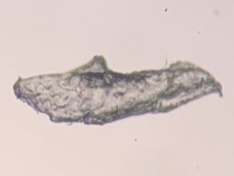microplastic: (12, 55, 224, 126)
